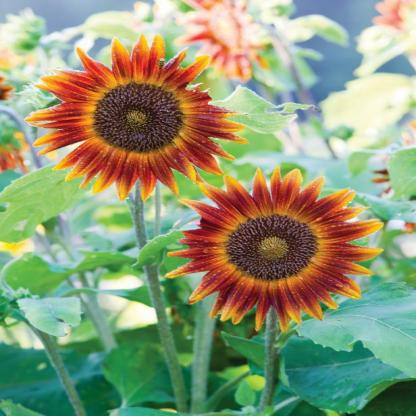other: (171, 178, 380, 325), (49, 46, 230, 185)
